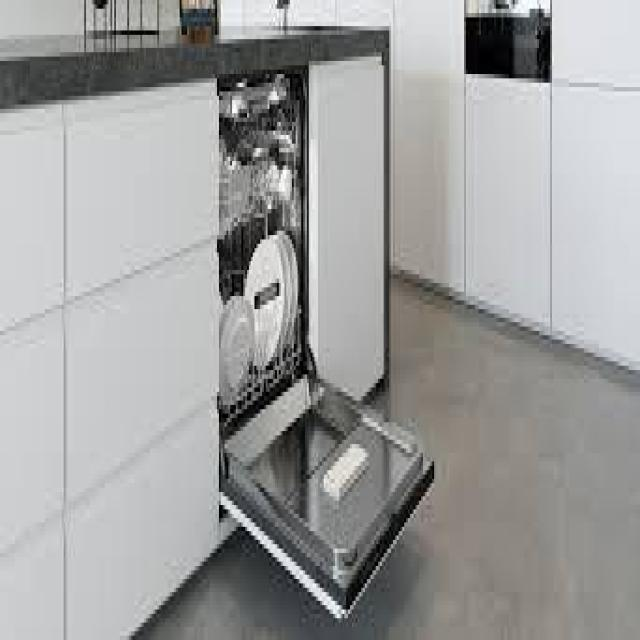dishwasher: (210, 48, 440, 627)
